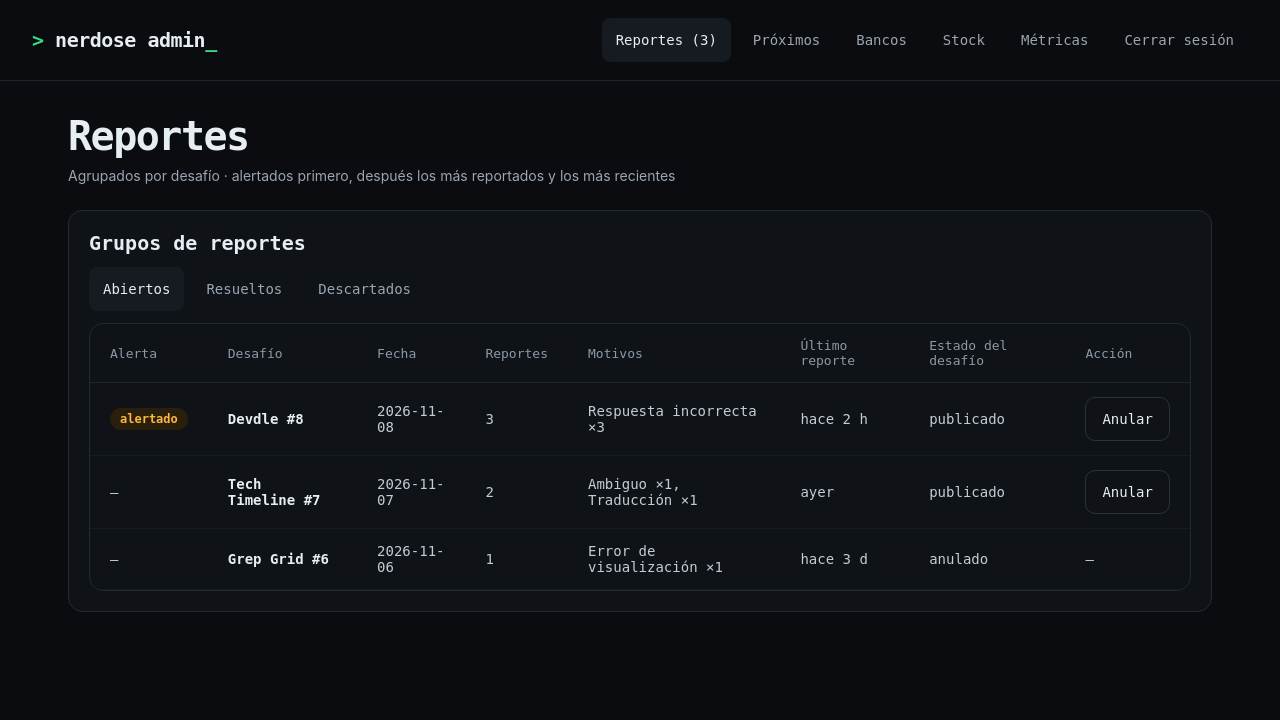
it: modal de anulación (O-01) › 409 not_voidable: aviso, botón deshabilitado y recarga (TS-56)
This screenshot has width=1280, height=720.
Click the button "Devdle #8".
click(266, 419)  # box [228,411,304,427]
(page scrolled)
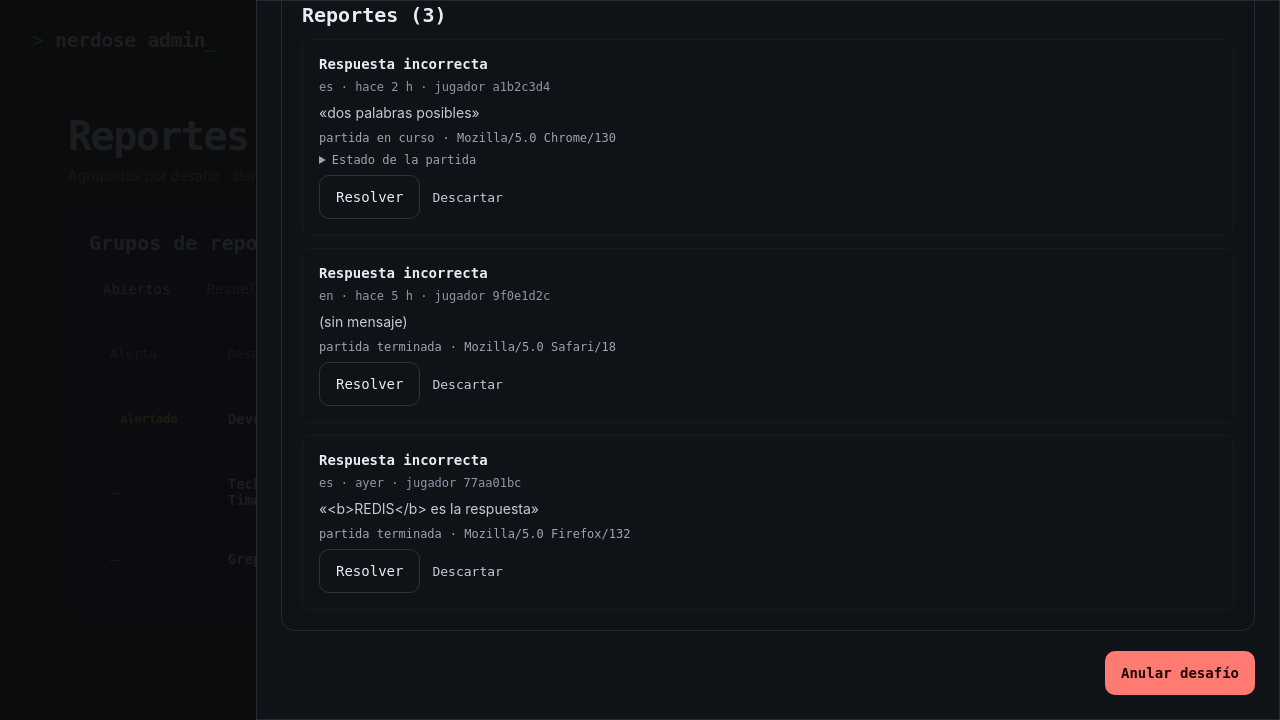
Click the button "Anular desafío".
click(1180, 673)  # box [1105,651,1255,695]
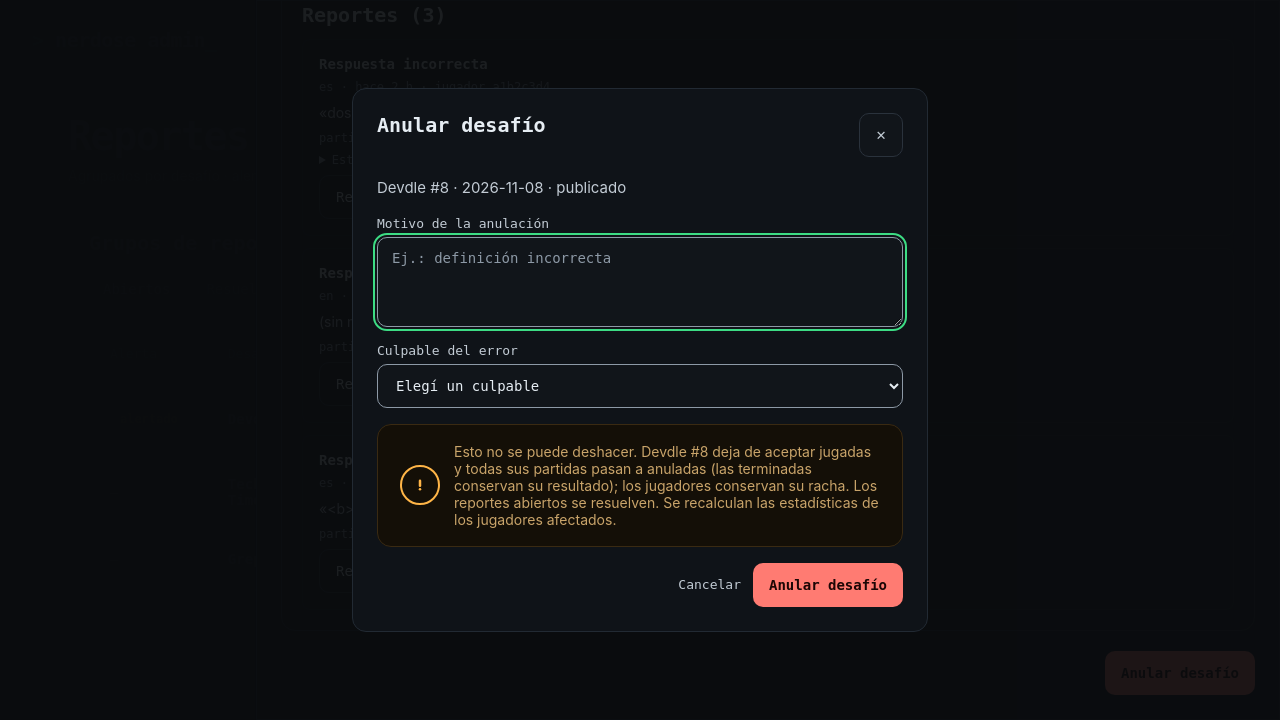
Type "motivo" into the text box labelled "Motivo de la anulación".
click(640, 282); type("motivo")  # box [377,237,903,327]
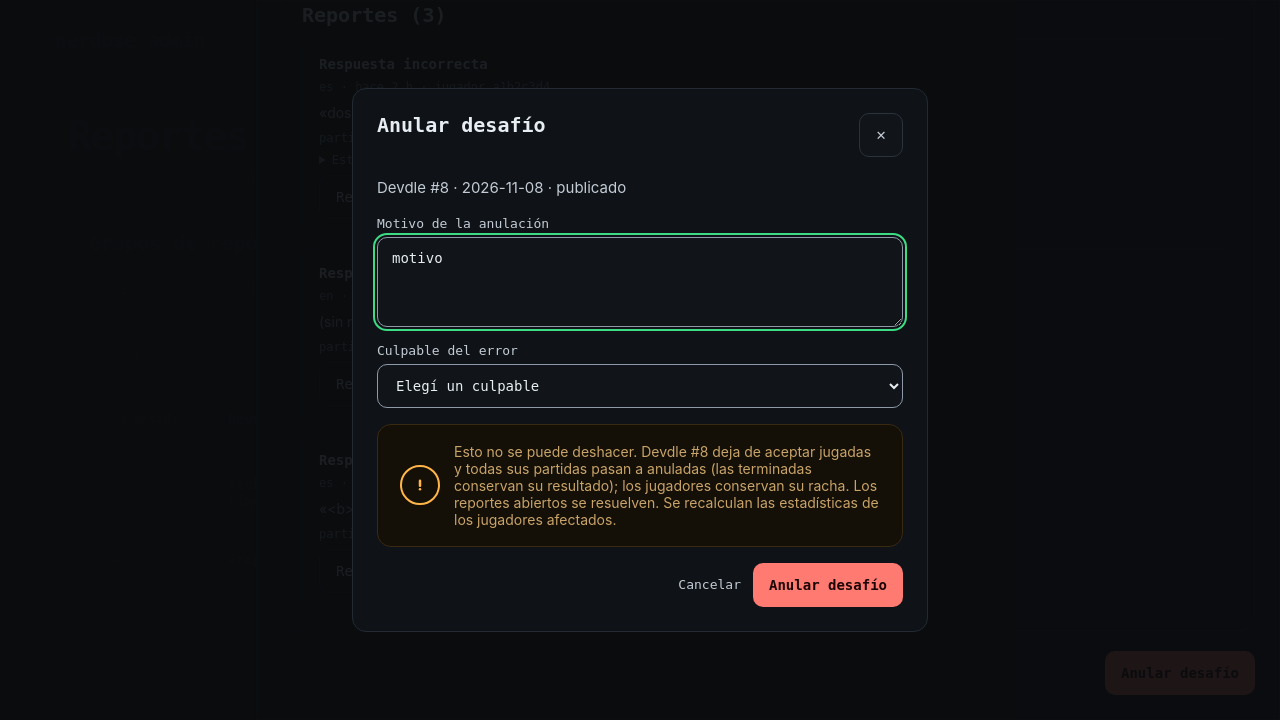
Select "La plantilla del juego" in the dropdown labelled "Culpable del error" at coordinates (640, 386), box [377,364,903,408]
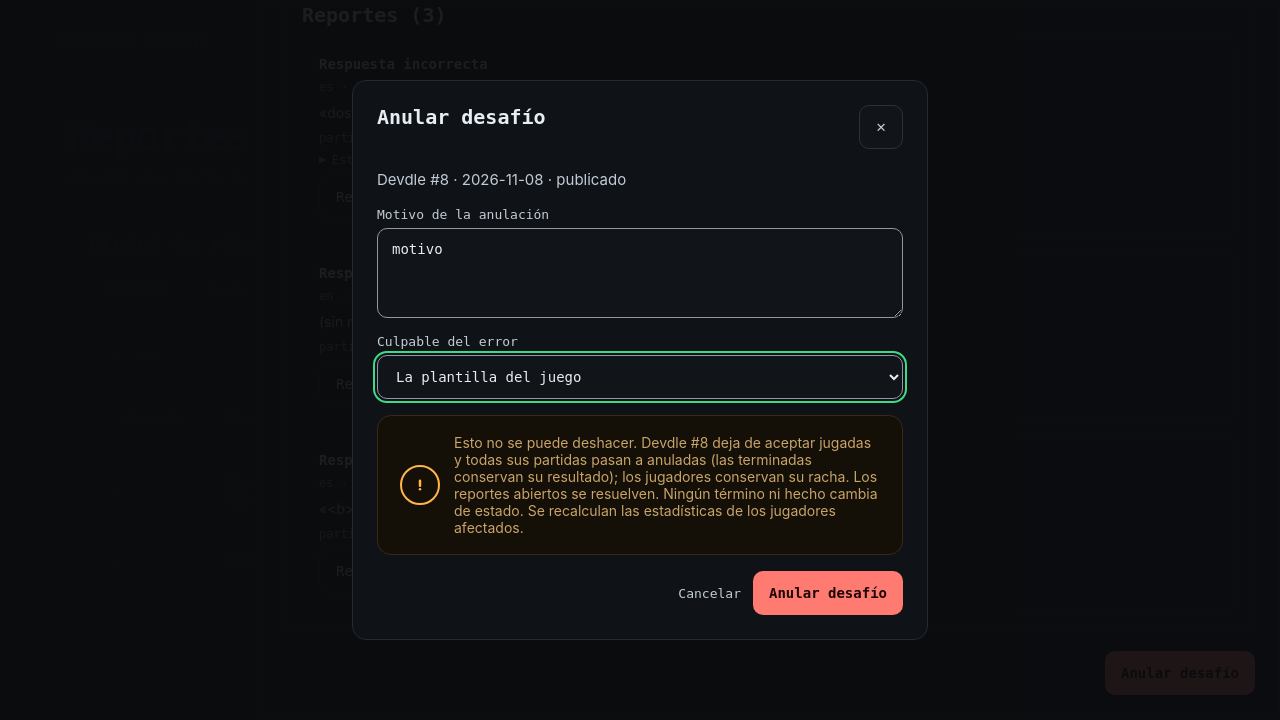
Click the button "Anular desafío".
click(828, 593)  # box [753,571,903,615]
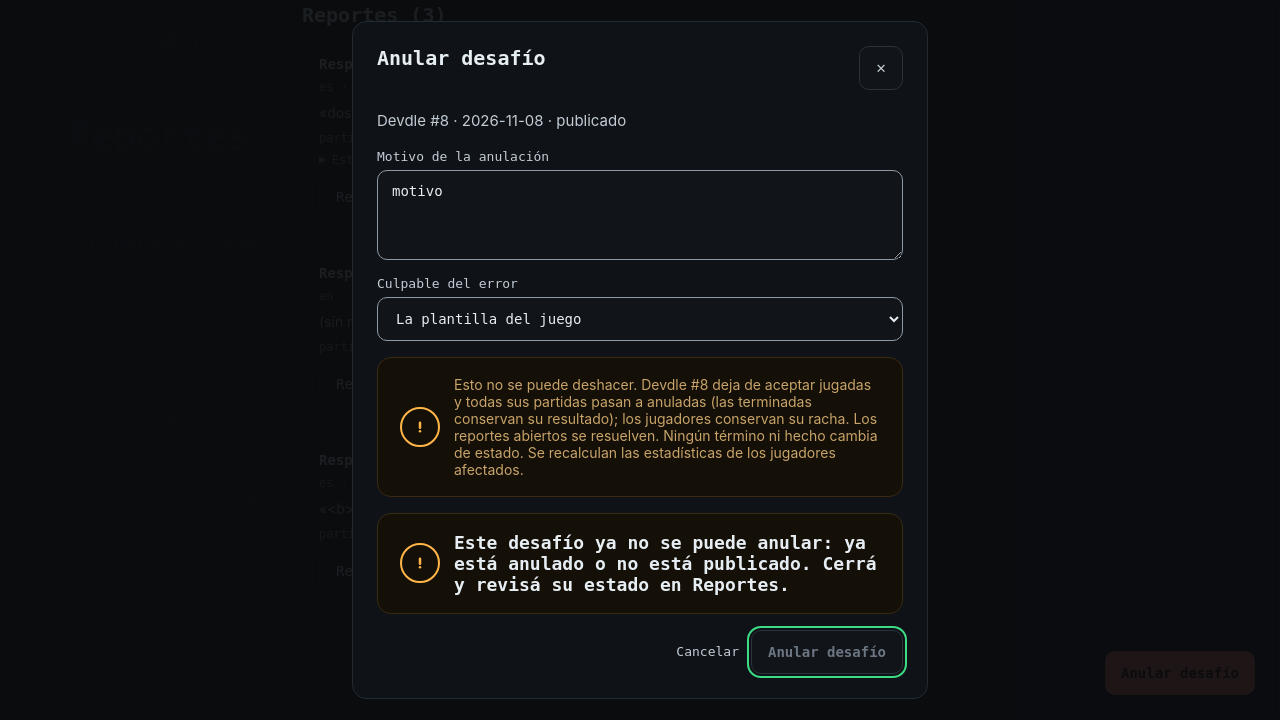
Now the dialog "Anular desafío" is shown, box [352,21,928,699]
Now the message shows "Este desafío ya no se puede anular: ya está anulado o no está publicado. Cerrá y revisá su estado en Reportes.", box [454,532,877,595]
